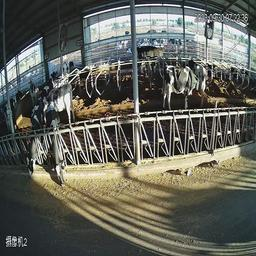cow: (44, 108, 68, 192), (161, 62, 197, 105), (26, 105, 43, 178), (43, 86, 80, 119), (187, 50, 209, 104), (135, 36, 163, 76), (42, 67, 59, 96), (25, 76, 38, 104), (61, 56, 76, 79)
